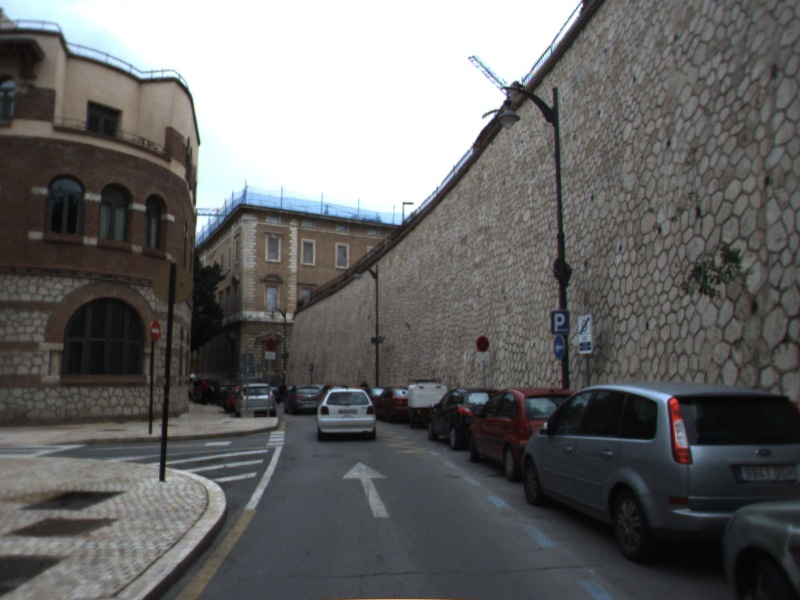STRAIGHT: (340, 460, 391, 520)
